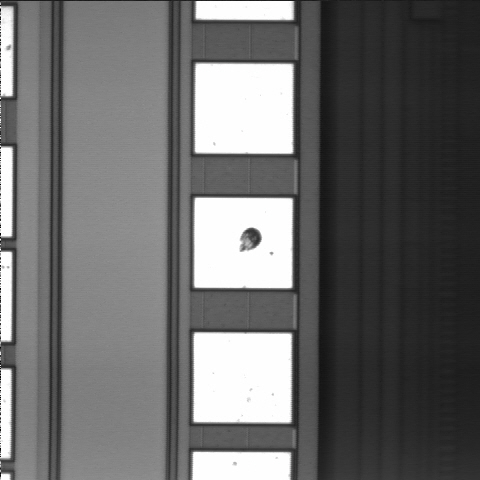pad: (195, 64, 293, 154), (194, 198, 292, 288), (194, 333, 292, 423)
